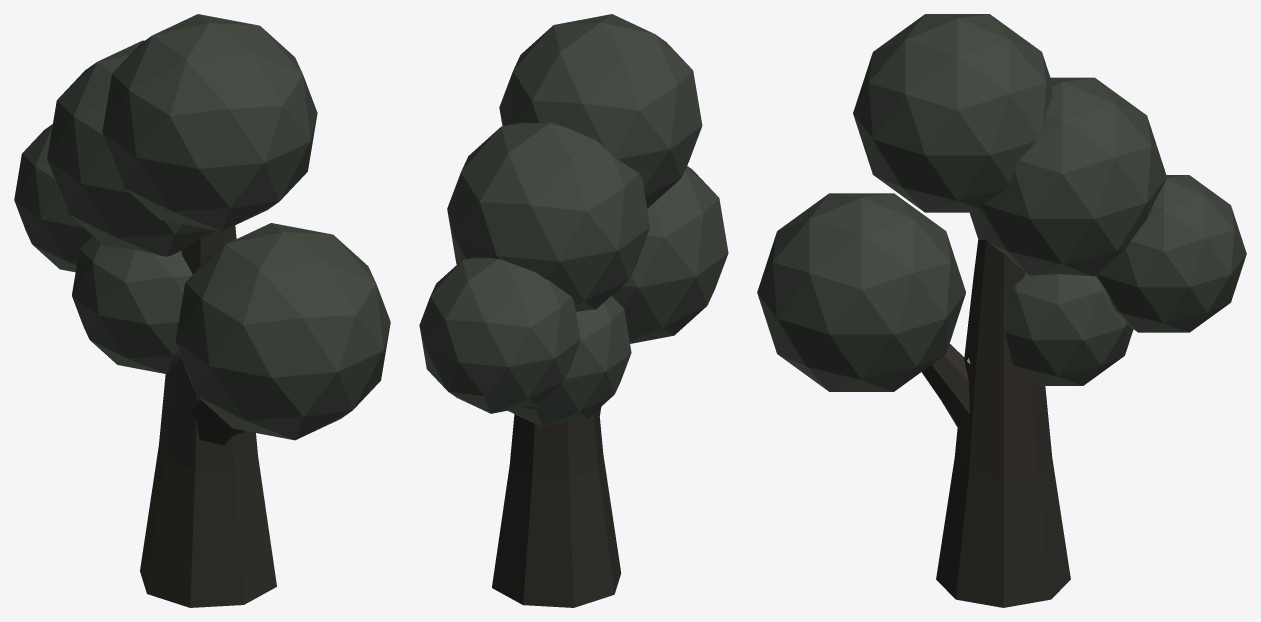
The model's file is SM_Env_Tree_01.fbx.
The picture shows the model from 3 angles, left to right: view 1: azimuth 30°, elevation 25°; view 2: azimuth 150°, elevation 25°; view 3: azimuth 270°, elevation 25°; orthographic projection. The views are drawn at different scales.
Visible parts, largest first — view 1: Icosphere, Icosphere.001, Cylinder, Icosphere.002, Icosphere.003, Icosphere.004, Cylinder.002; view 2: Icosphere.002, Icosphere.001, Cylinder, Icosphere.004, Icosphere, Icosphere.003; view 3: Icosphere, Icosphere.001, Cylinder, Icosphere.002, Icosphere.004, Icosphere.003, Cylinder.002.
Boxes of the visible parts, x1,y1,x2,y2 form: Icosphere: [175, 223, 390, 440]; Icosphere.001: [102, 14, 317, 231]; Cylinder: [140, 225, 276, 607]; Icosphere.002: [47, 40, 216, 256]; Icosphere.003: [72, 236, 192, 374]; Icosphere.004: [14, 124, 92, 272]; Cylinder.002: [190, 398, 243, 445]; Icosphere.002: [447, 122, 650, 311]; Icosphere.001: [499, 14, 702, 208]; Cylinder: [492, 409, 621, 607]; Icosphere.004: [419, 257, 580, 413]; Icosphere: [612, 166, 728, 343]; Icosphere.003: [508, 295, 631, 426]; Icosphere: [757, 193, 965, 391]; Icosphere.001: [853, 14, 1052, 212]; Cylinder: [936, 239, 1070, 607]; Icosphere.002: [969, 77, 1166, 276]; Icosphere.004: [1096, 175, 1246, 332]; Icosphere.003: [1005, 273, 1133, 385]; Cylinder.002: [921, 344, 969, 434].
Size of the model in its own units: 726 by 900 by 332.
